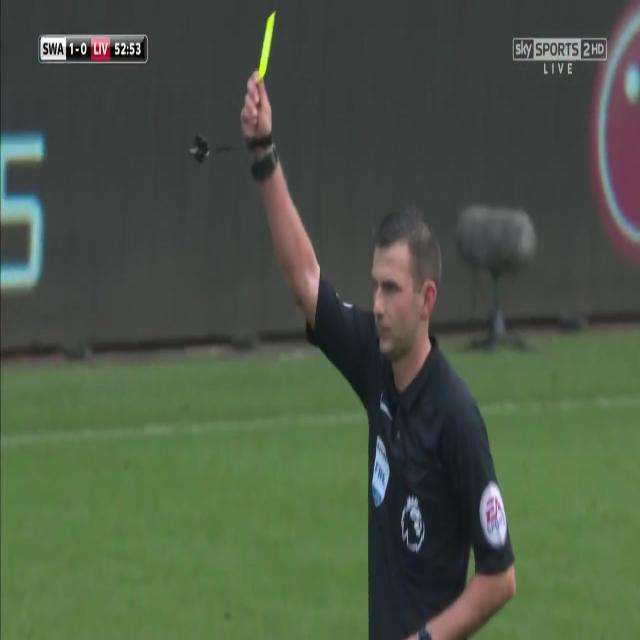Referee: (240, 64, 518, 640)
